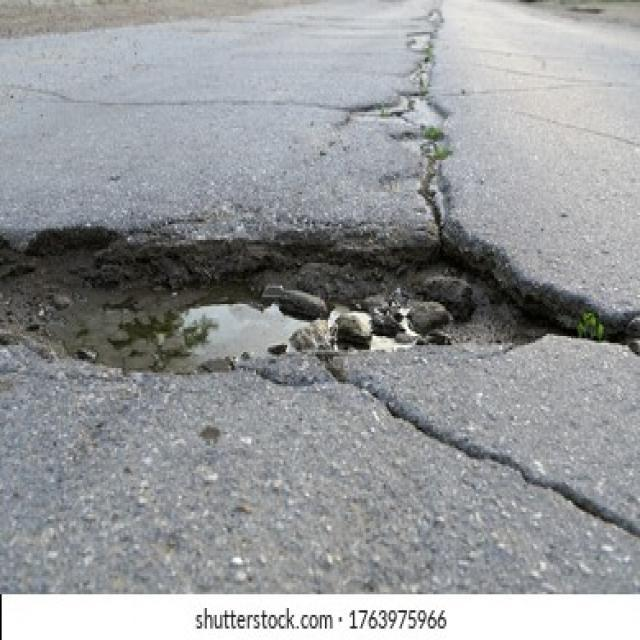Pothole: (0, 205, 569, 377)
